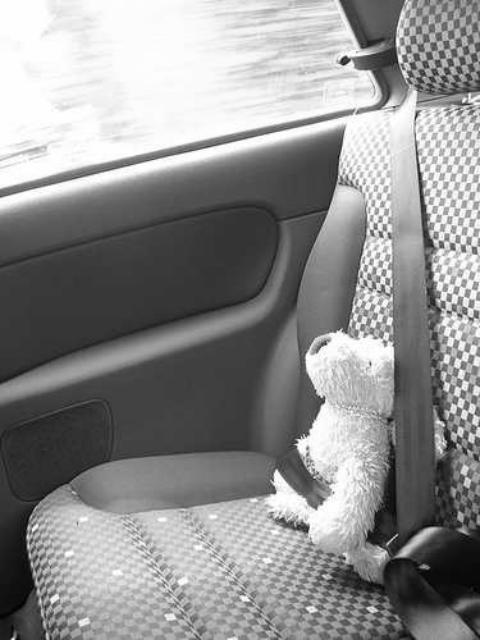Seatbelt: (272, 88, 446, 586)
